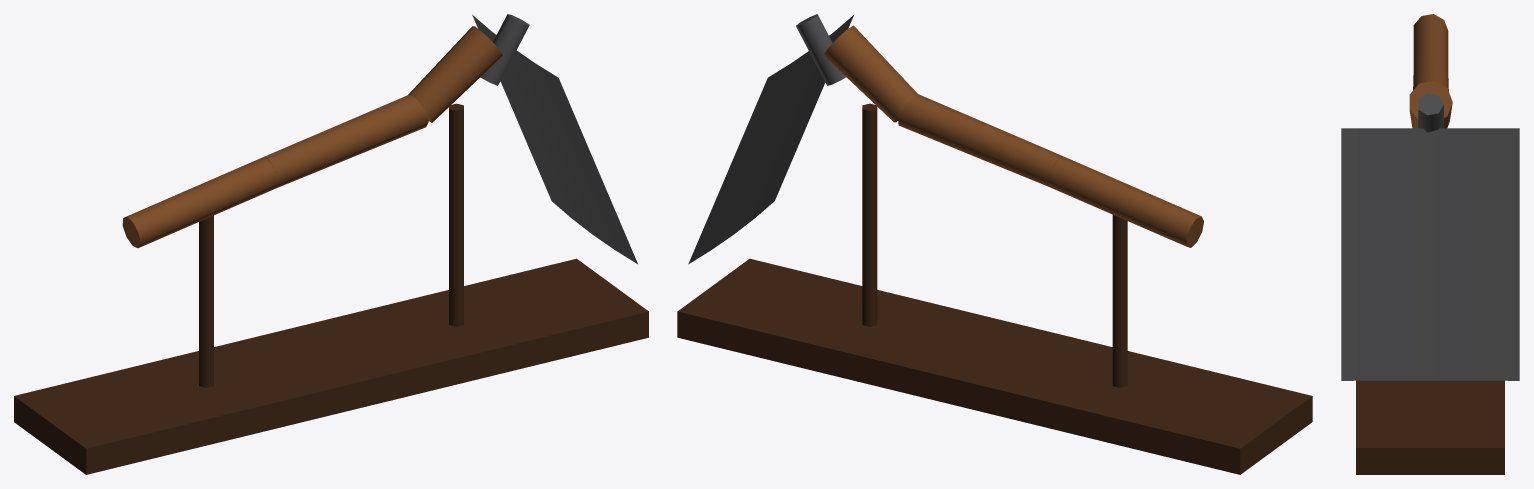
Rendered from daba.glb.
3 views of the same model, side by side, from view 1: azimuth 30°, elevation 25°; view 2: azimuth 150°, elevation 25°; view 3: azimuth 270°, elevation 25° (orthographic). The views are drawn at different scales.
Visible parts, largest first — view 1: daba; view 2: daba; view 3: daba.
Boxes of the visible parts, box(x1,y1,x2,y2) form: daba: box(14, 14, 648, 474); daba: box(677, 14, 1312, 474); daba: box(1341, 14, 1519, 474).
Size of the model in its own units: 0.9 by 0.4893 by 0.24.
